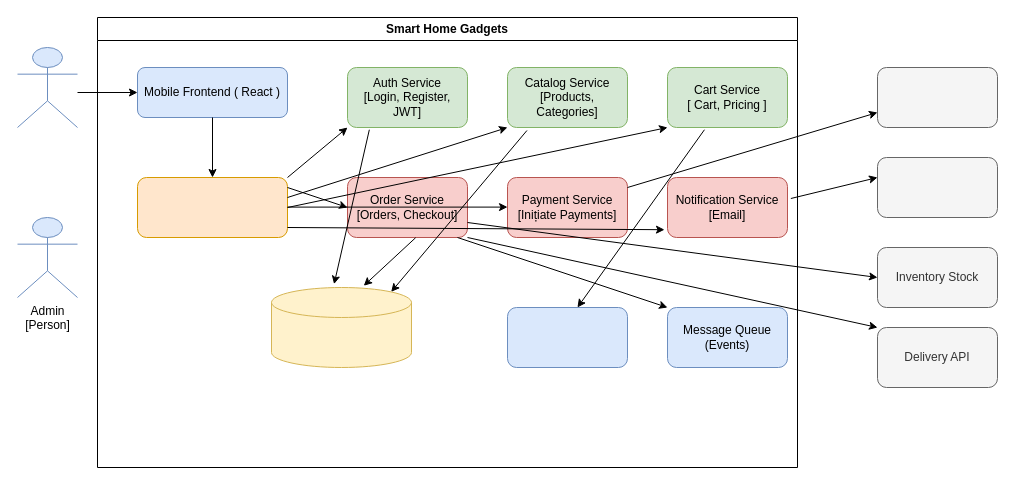
Some shapes in this 1015 by 485 pixel diagram are drawn without their labels. The shapes that lost their labels are listed below. From the top down, each one's box as (x1, y1, x2, y2) in pixels, then its label:
(16, 46, 78, 128): Customer [Person]
(876, 66, 998, 128): Payment Gateway
(136, 176, 288, 238): Backend API Gateway Java/Spring Boot
(876, 156, 998, 218): Email Provider
(270, 286, 412, 368): Database [Users,Products,Orders]
(506, 306, 628, 368): Cache (Session, Cart)
